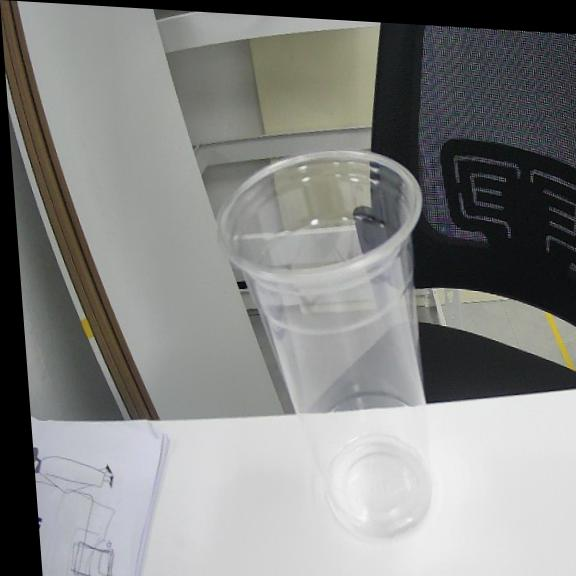Plastik: (218, 152, 432, 536)
